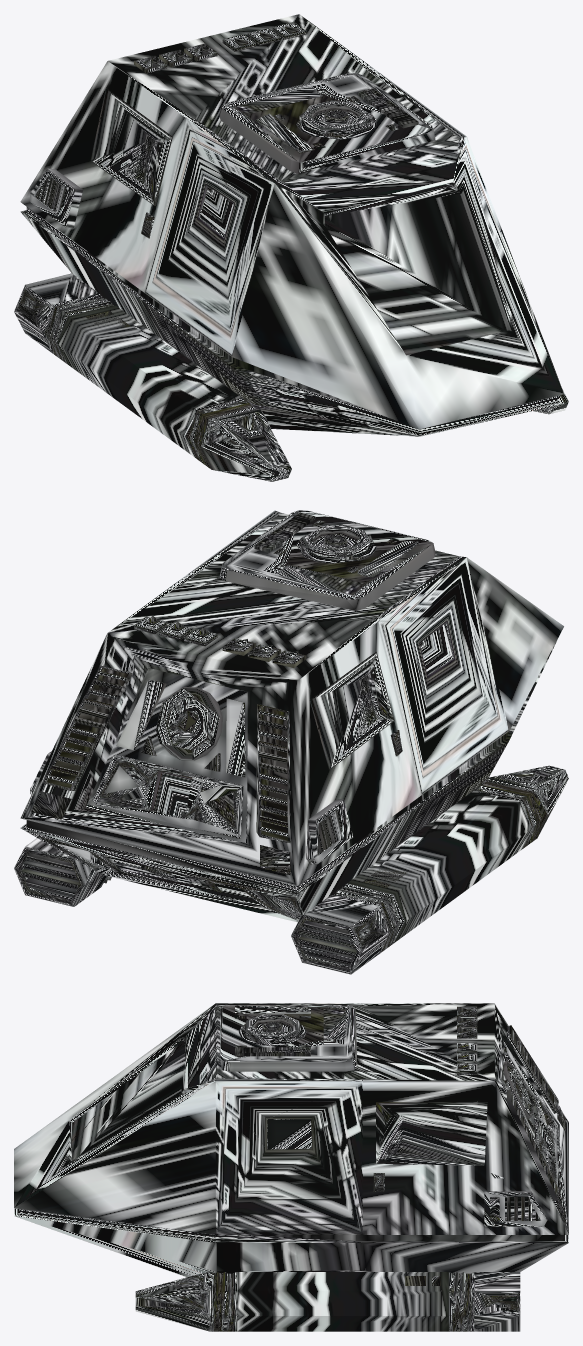
3 views of the same model, one above another, from view 1: azimuth 30°, elevation 25°; view 2: azimuth 150°, elevation 25°; view 3: azimuth 270°, elevation 25° (orthographic). The views are drawn at different scales.
Parts seen in each view (by area): view 1: Object_2; view 2: Object_2; view 3: Object_2.
Part boxes in pixels (x1=…): Object_2: x1=14, y1=14, x2=568, y2=481; Object_2: x1=14, y1=510, x2=568, y2=974; Object_2: x1=14, y1=1003, x2=568, y2=1331.
Bounding box in the file's own units: 2.18 × 1.74 × 3.6.
1 material, 1 textured.
